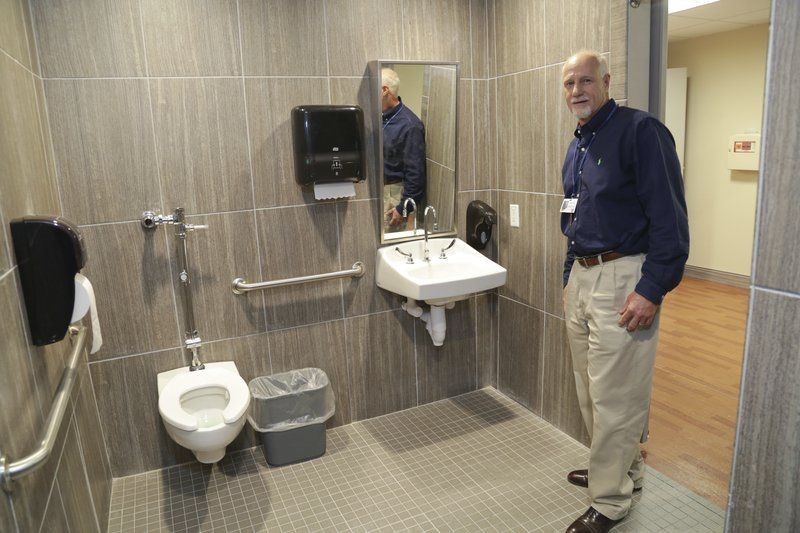dispenser: (9, 215, 101, 361), (291, 104, 368, 191), (468, 202, 497, 248)
faucet: (395, 205, 457, 262)
restroom_assist_bar: (1, 319, 92, 498), (231, 261, 367, 294)
sink: (373, 239, 510, 300)
staff: (560, 48, 691, 533)
toilet: (156, 361, 251, 465)
toilet_handle: (140, 206, 209, 241)
waste_bin: (247, 368, 336, 467)
